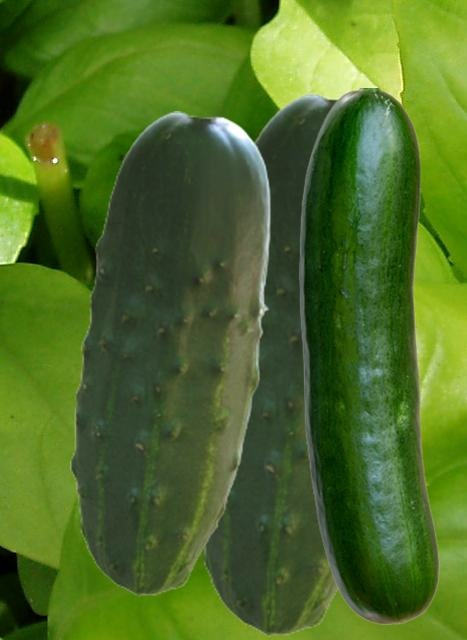cucumber: (200, 93, 416, 635), (70, 111, 270, 595), (299, 88, 438, 623)
